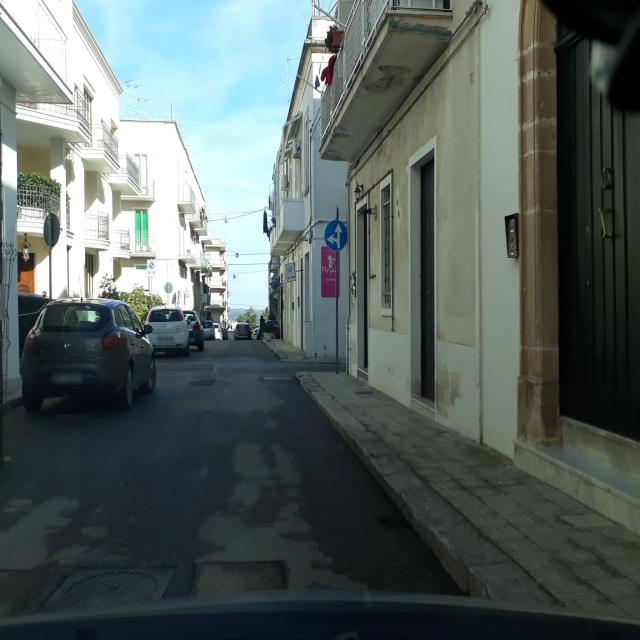forb_stopping: (149, 261, 155, 270)
